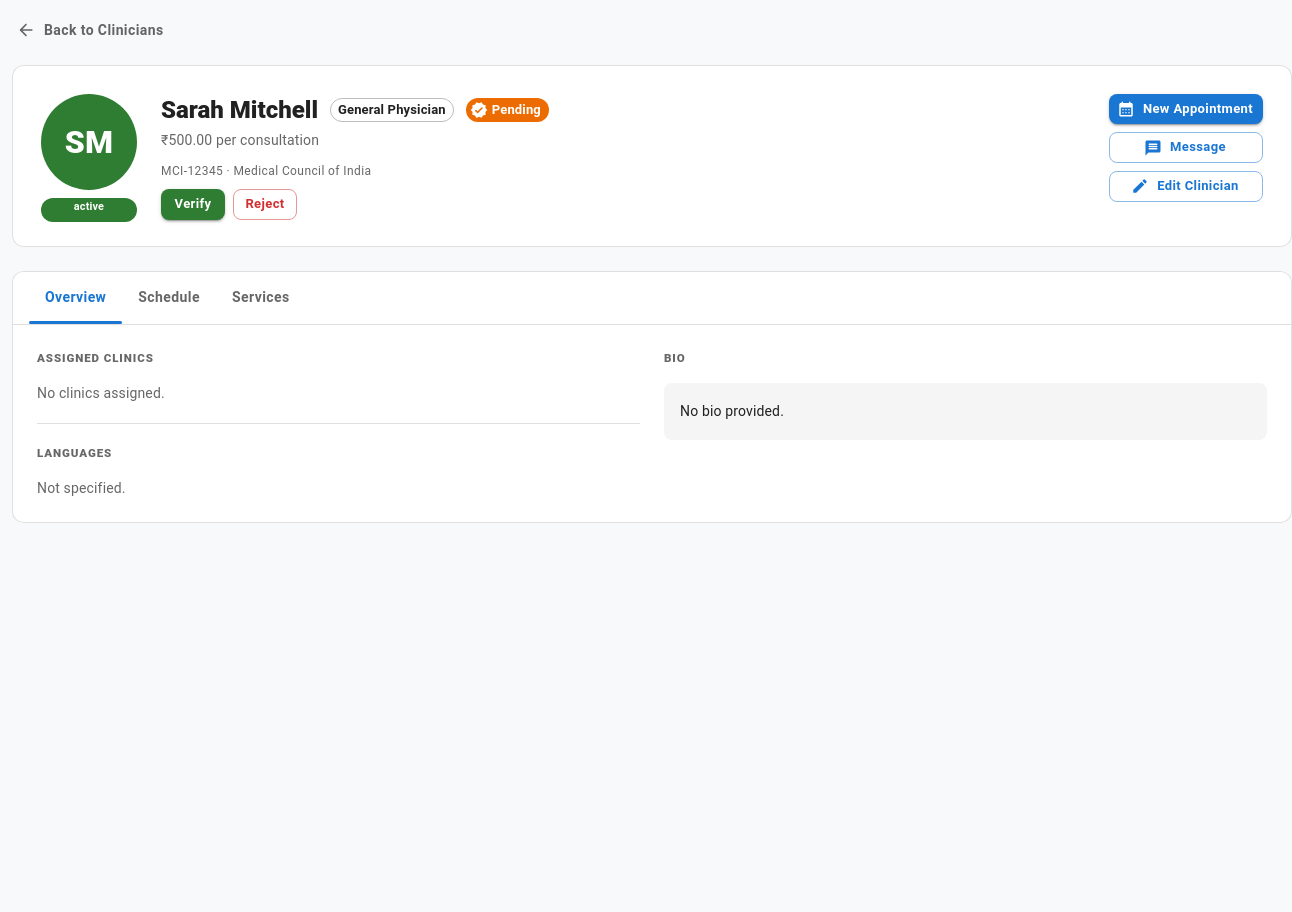
Scenario: clinicians/detail.jsx — verification (A-4) › lets an admin verify a pending clinician and refetches the result
The width and height of the screenshot is (1292, 912).
Expected: the heading "Sarah Mitchell" is shown, x1=161 y1=94 x2=318 y2=126
Click the button "Verify" at (193,205), box x1=161 y1=189 x2=225 y2=220
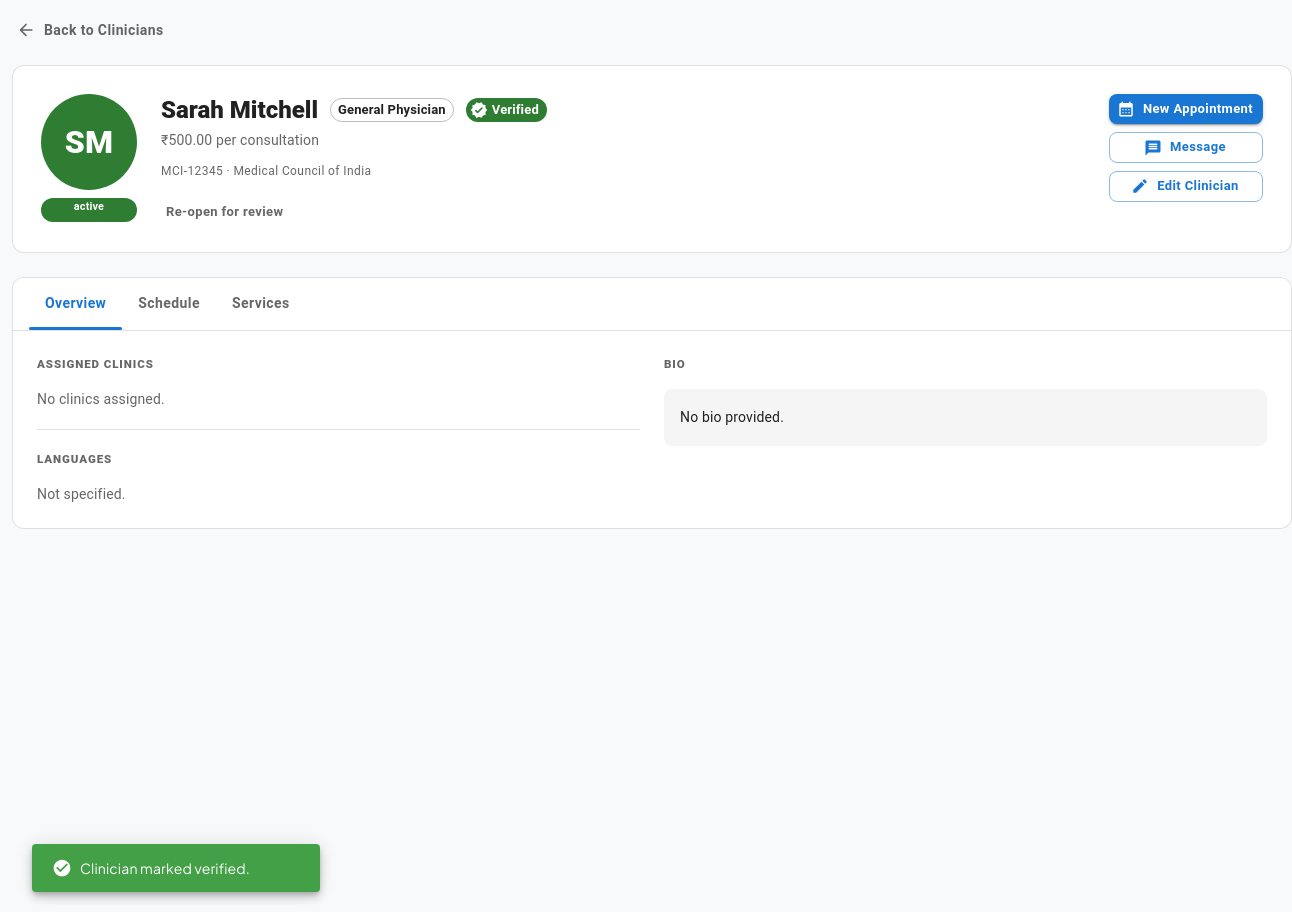
Expected: the text "Clinician marked verified." is shown, x1=52 y1=858 x2=250 y2=878
Expected: the text "pending" is gone
